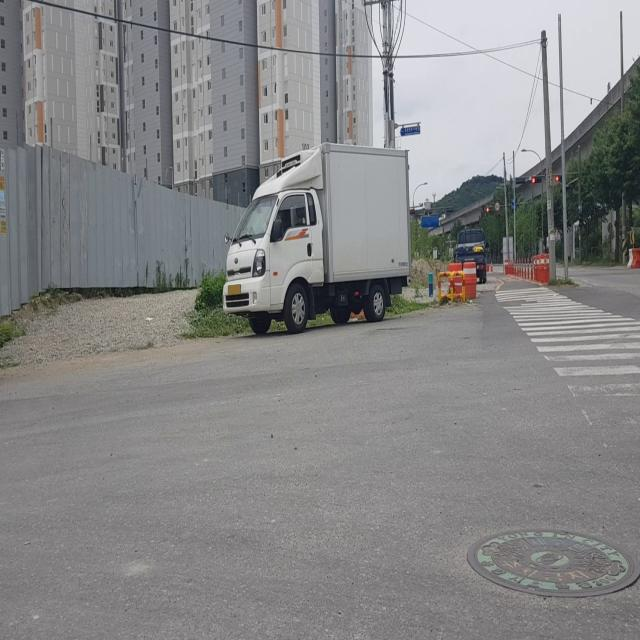횡단보도: (494, 286, 640, 502)
